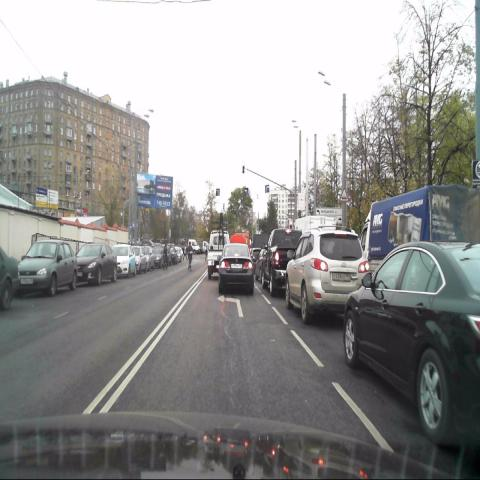1_5: (340, 187, 349, 202)
